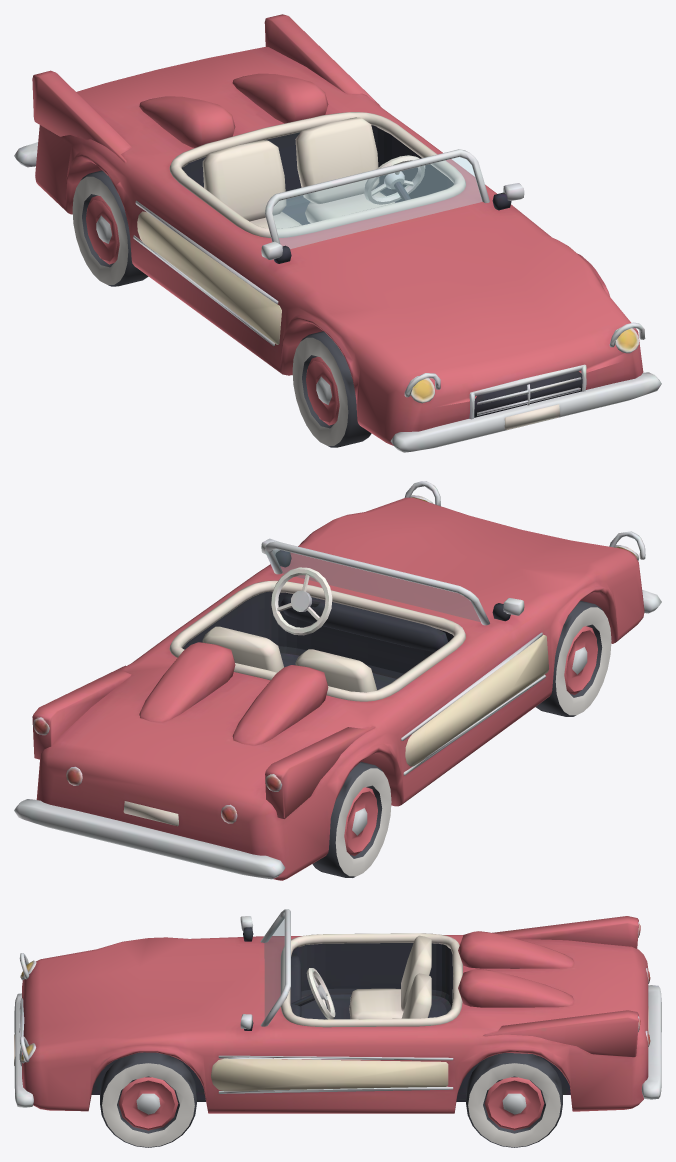
The model's file is n_1950roadster.glb.
3 renders of one model, top to bottom at view 1: azimuth 30°, elevation 25°; view 2: azimuth 150°, elevation 25°; view 3: azimuth 270°, elevation 25°, orthographic. The views are drawn at different scales.
Parts seen in each view (by area): view 1: 1950s-roadster_body, 1950s-roadster_windows, 1950s-roadster_wheel_fr, 1950s-roadster_wheel_rr; view 2: 1950s-roadster_body, 1950s-roadster_wheel_rr, 1950s-roadster_wheel_fr, 1950s-roadster_windows; view 3: 1950s-roadster_body, 1950s-roadster_wheel_fl, 1950s-roadster_wheel_rl, 1950s-roadster_windows.
Part boxes in pixels (box(x1,y1,x2,y2)): 1950s-roadster_body: box(14, 14, 661, 452); 1950s-roadster_windows: box(272, 157, 482, 248); 1950s-roadster_wheel_fr: box(292, 331, 371, 447); 1950s-roadster_wheel_rr: box(72, 170, 148, 286); 1950s-roadster_body: box(14, 481, 661, 880); 1950s-roadster_wheel_rr: box(312, 762, 391, 877); 1950s-roadster_wheel_fr: box(536, 601, 611, 716); 1950s-roadster_windows: box(272, 549, 480, 621); 1950s-roadster_body: box(14, 909, 661, 1113); 1950s-roadster_wheel_fl: box(100, 1052, 196, 1147); 1950s-roadster_wheel_rl: box(466, 1053, 562, 1147); 1950s-roadster_windows: box(264, 916, 284, 1017).
Size of the model in its own units: 1.76 by 1.11 by 4.35.
Materials: 3 (1 with a texture image).
